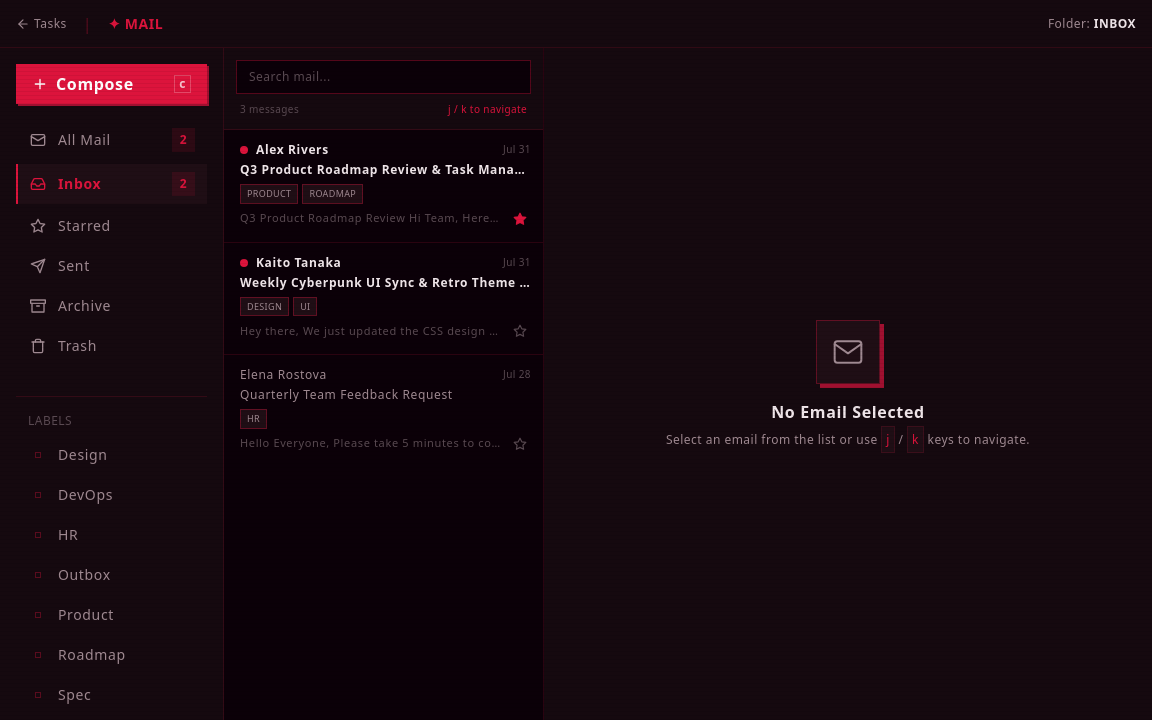
Test: MailPage Orchestrator & Integration Suite › Tier 2: Cross-Feature Interactions & Edge Conditions › sends email from ComposeModal and adds sent email to store with success toast
Note: Open compose modal via button
Click the button "Compose c" at (112, 84), box 16,64 -> 207,104
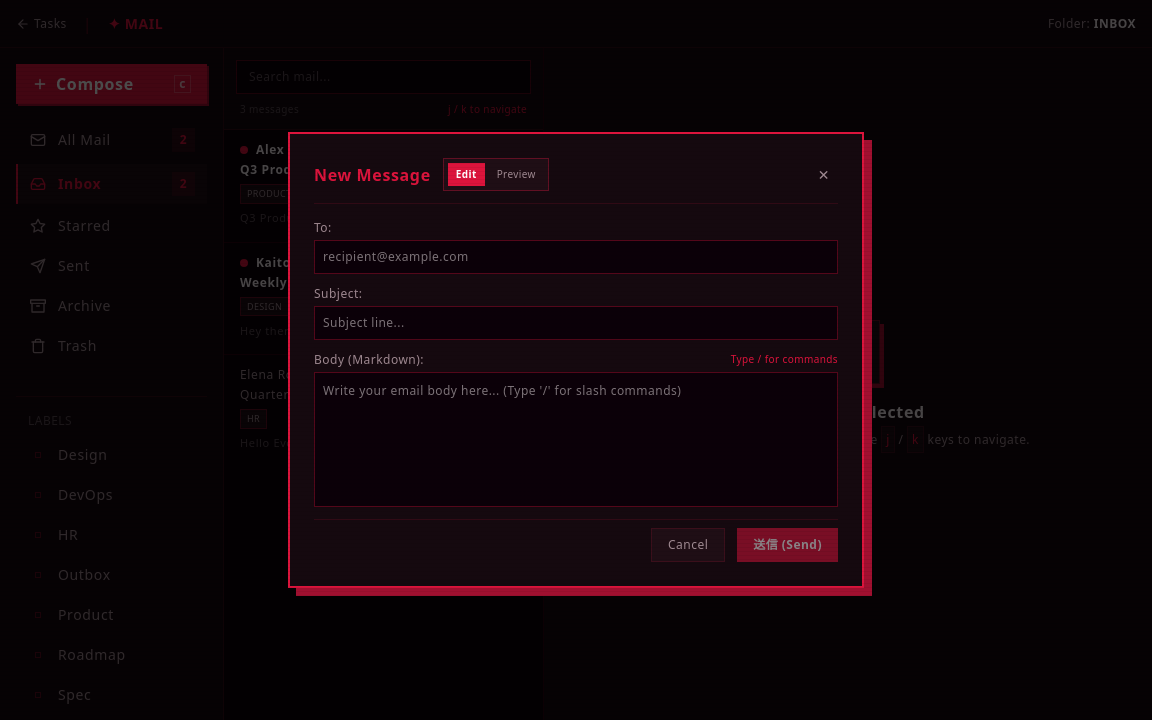
Note: Fill in fields
Type "recipient@test.com" into the field with test id "compose-to-input" at (576, 257), box 314,240 -> 838,274
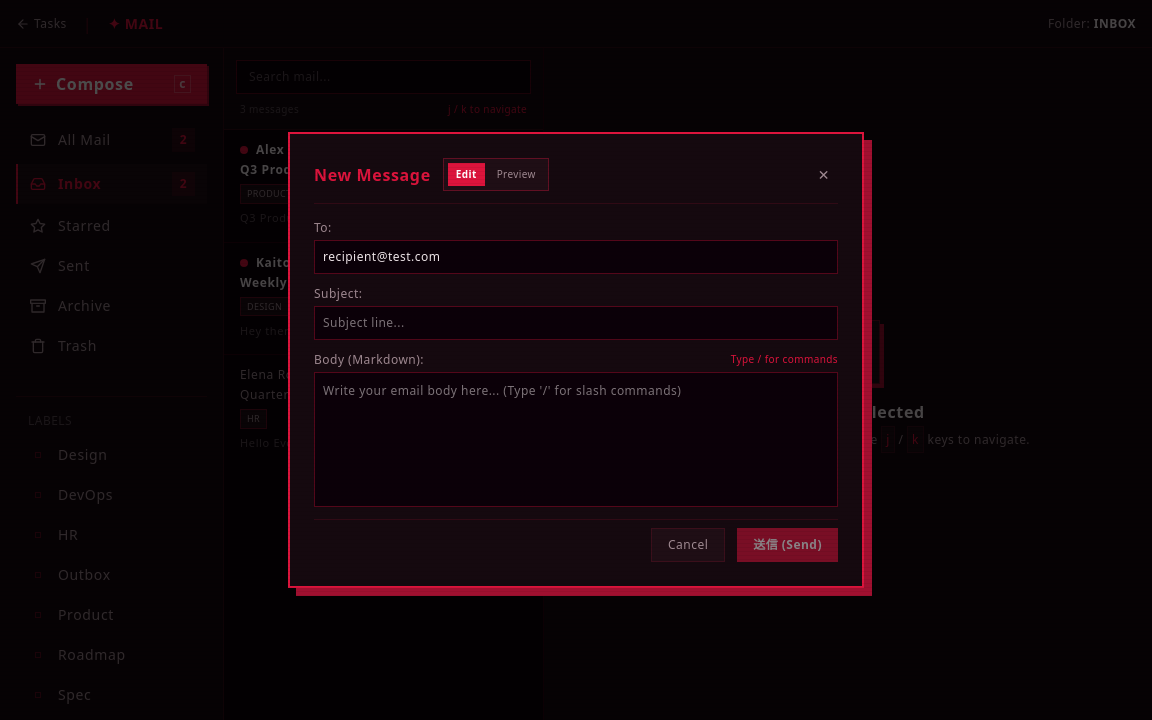
Type "New Test Mail" into the field with test id "compose-subject-input" at (576, 323), box 314,306 -> 838,340
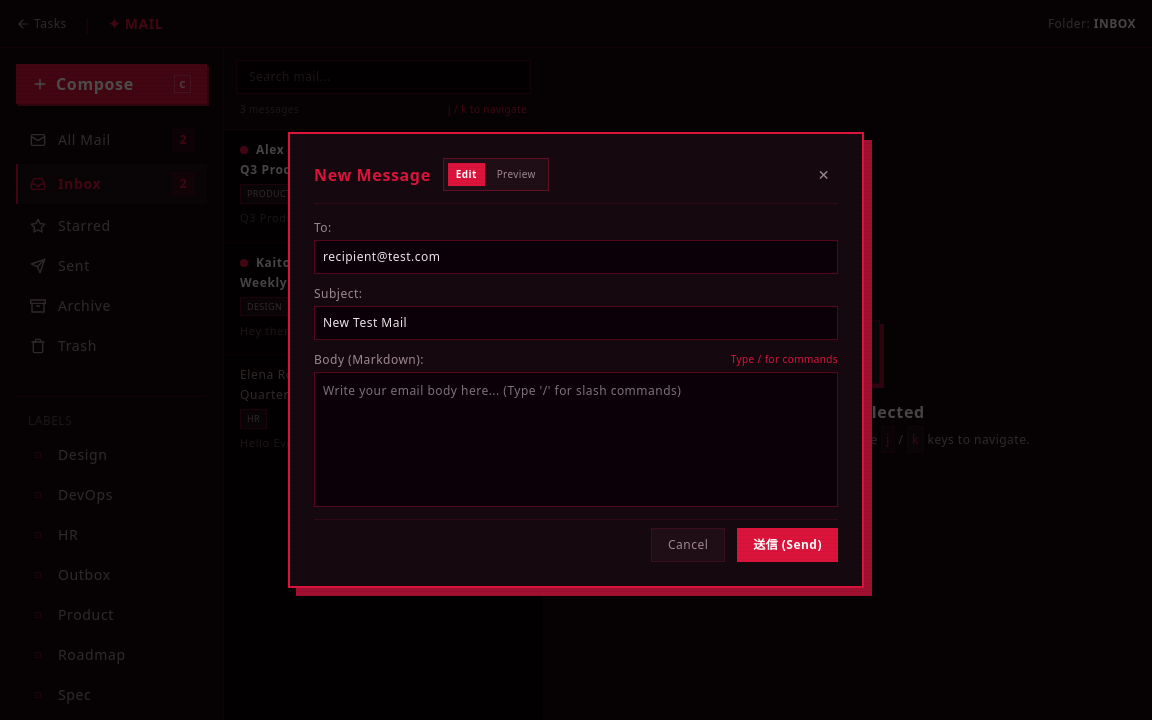
Type "Test body content" into the text box with test id "compose-body-textarea" at (576, 440), box 314,372 -> 838,507
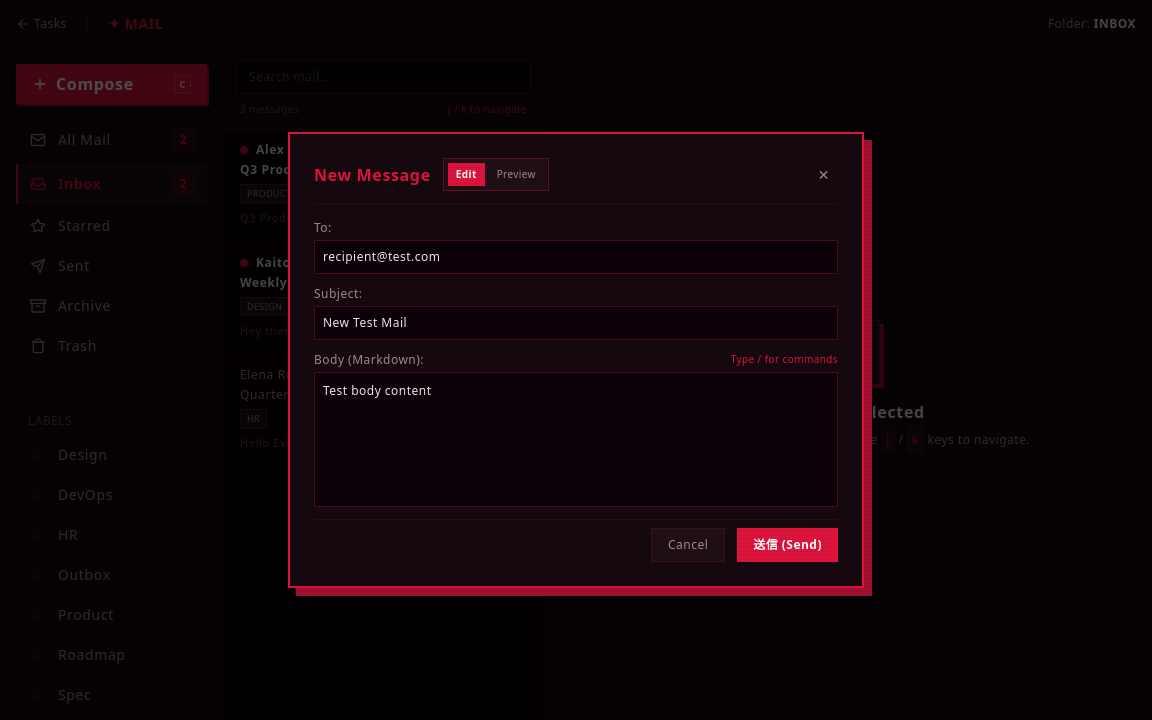
Note: Click Send
Click the button with test id "compose-send-button" at (788, 545), box 737,528 -> 838,562
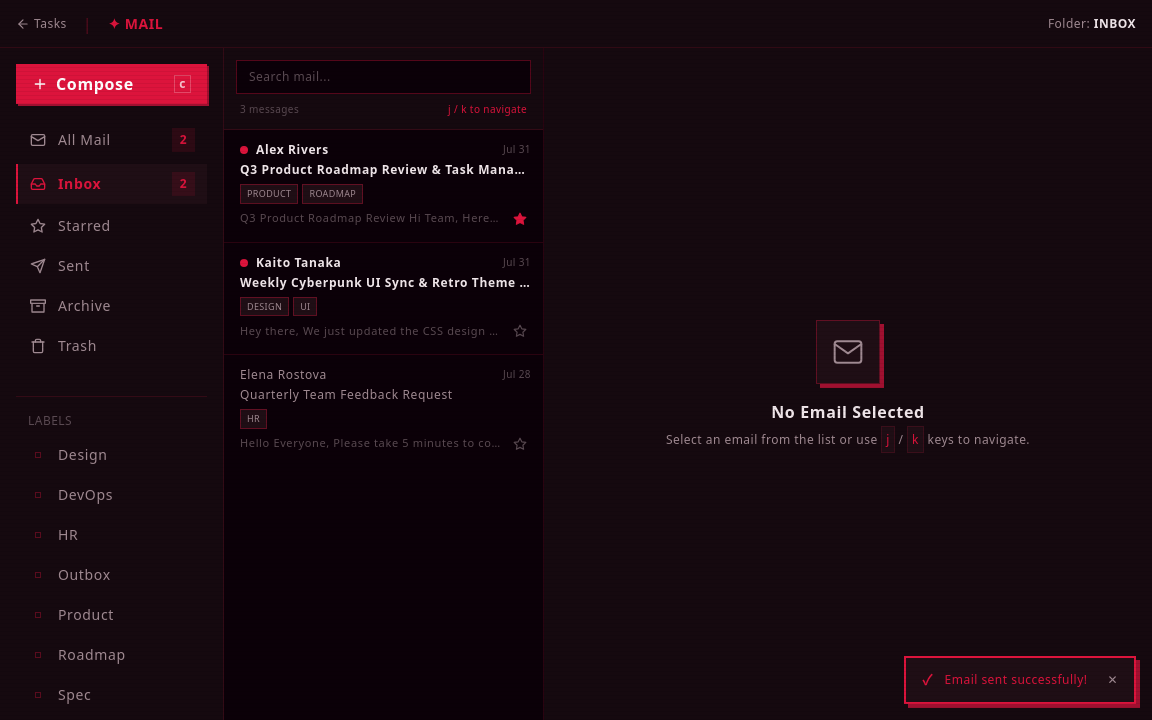
Check: the dialog with test id "compose-modal" is gone
Check: the message "✓ Email sent successfully! ✕" is shown, box 904,656 -> 1136,704
Check: the text "Email sent successfully!" is shown, box 945,672 -> 1088,688
